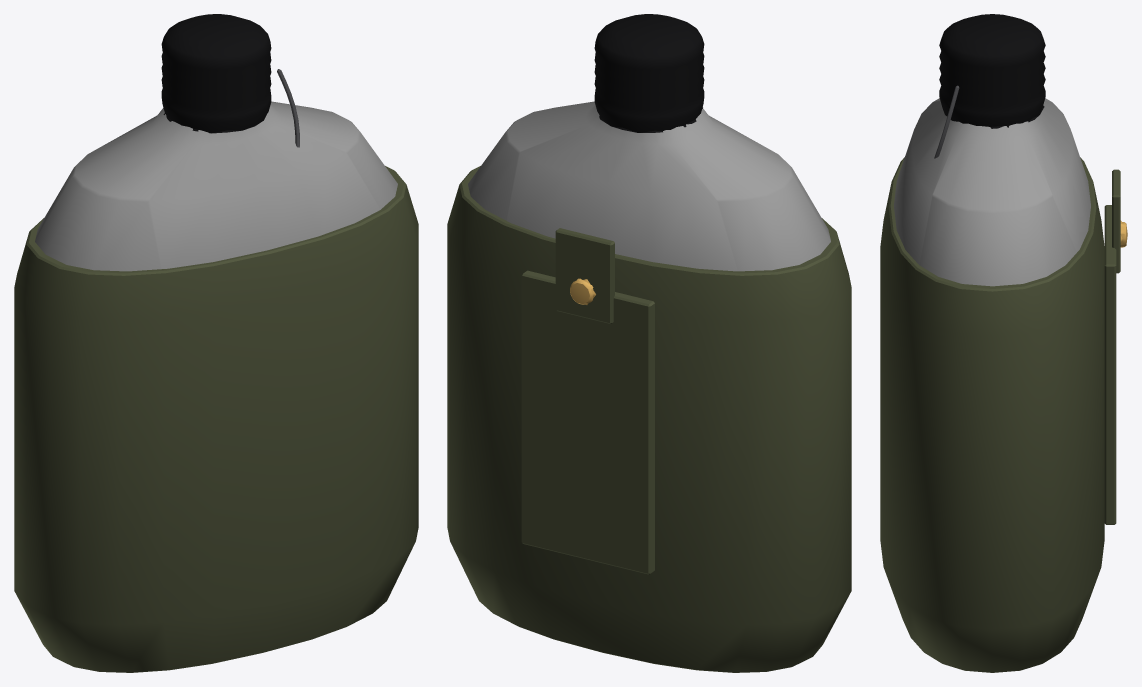
File: canteen.glb
3 views of the same model, side by side, from view 1: azimuth 30°, elevation 25°; view 2: azimuth 150°, elevation 25°; view 3: azimuth 270°, elevation 25° (orthographic). The views are drawn at different scales.
Parts seen in each view (by area): view 1: canteen; view 2: canteen; view 3: canteen.
Part boxes in pixels (x1,y1,x2,y2): canteen: [14, 14, 418, 672]; canteen: [447, 14, 851, 672]; canteen: [880, 14, 1127, 672].
Size of the model in its own units: 0.147 by 0.218 by 0.086.
